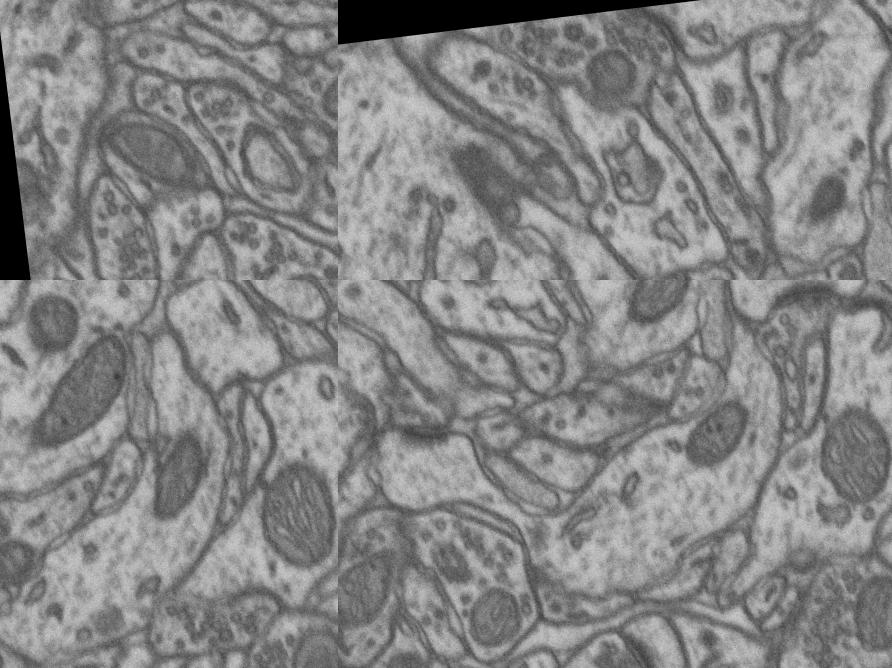mitochondria: (9, 328, 152, 460), (249, 449, 338, 579), (807, 395, 892, 519), (142, 424, 224, 532), (338, 536, 418, 643), (98, 111, 198, 196), (674, 388, 763, 474), (454, 576, 535, 661), (16, 284, 92, 360), (578, 38, 650, 108), (615, 280, 708, 334), (842, 562, 892, 662), (282, 613, 338, 668), (0, 528, 43, 591), (315, 53, 338, 126), (374, 644, 436, 668)
